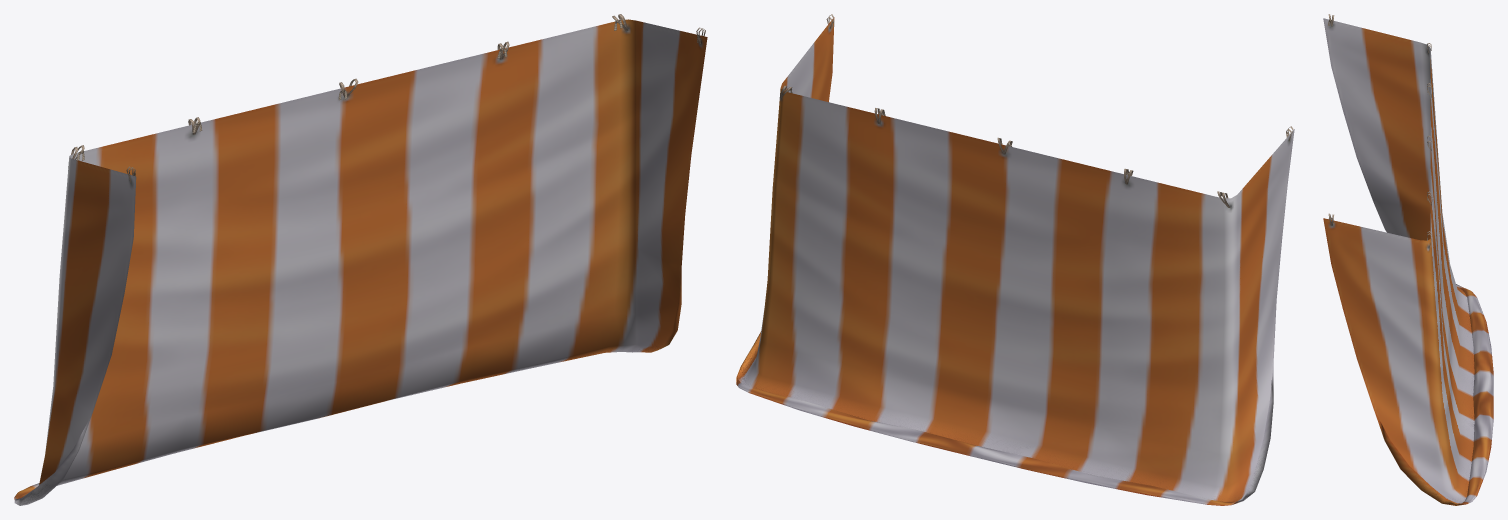
File: jsf_BackSide_s03_c04_t01.fbx
The picture shows the model from 3 angles, left to right: view 1: azimuth 30°, elevation 25°; view 2: azimuth 150°, elevation 25°; view 3: azimuth 270°, elevation 25°; orthographic projection. The views are drawn at different scales.
Parts seen in each view (by area): view 1: jsf_BackSide_s03_c04_t01; view 2: jsf_BackSide_s03_c04_t01; view 3: jsf_BackSide_s03_c04_t01.
Boxes of the visible parts, <box> form: jsf_BackSide_s03_c04_t01: <box>14,14,707,505</box>; jsf_BackSide_s03_c04_t01: <box>736,14,1294,505</box>; jsf_BackSide_s03_c04_t01: <box>1323,14,1493,505</box>.
Bounding box in the file's own units: 348 × 205 × 112.
